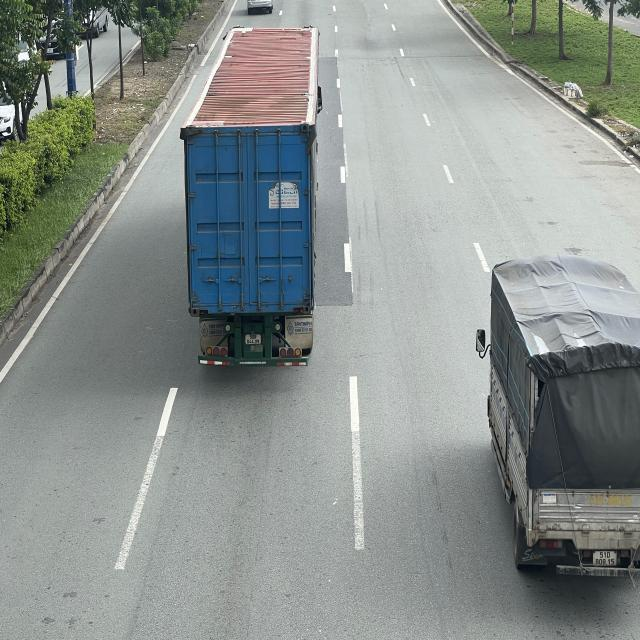container: (180, 24, 322, 366)
truck: (477, 255, 640, 582)
